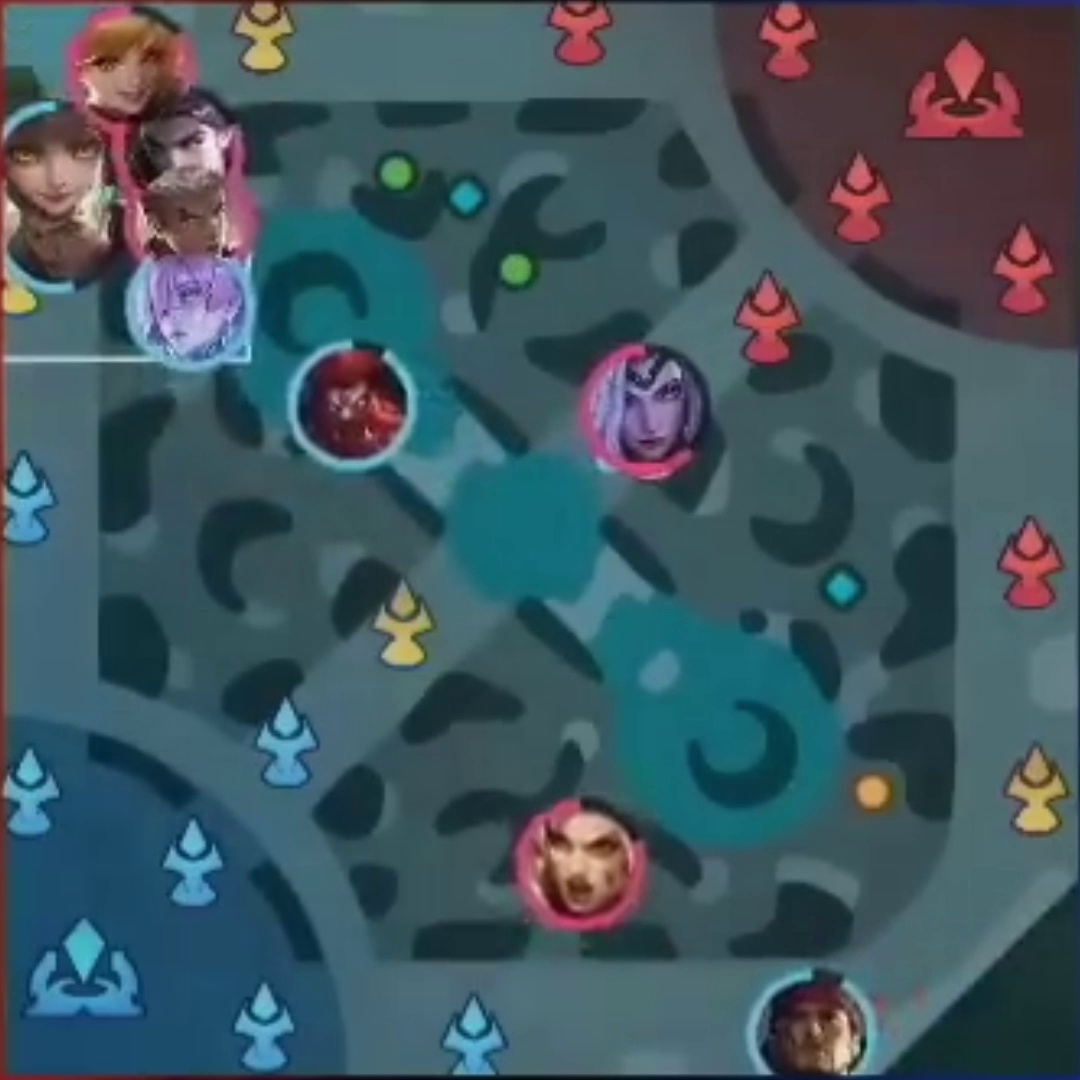Chou: (140, 178, 242, 259)
Claude: (132, 101, 230, 173)
Fanny: (76, 13, 169, 108)
Fredrinn: (5, 206, 111, 274)
Lapu-Lapu: (763, 978, 869, 1079)
Masha: (533, 808, 630, 918)
Minotaur: (299, 349, 402, 453)
Novaria: (133, 257, 246, 363)
Valentina: (594, 354, 699, 457)
Wanwan: (8, 106, 102, 211)
